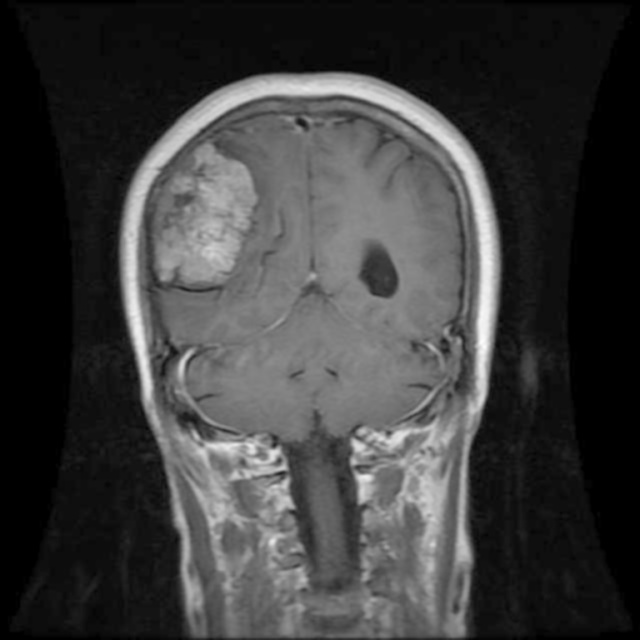meningioma tumor: (148, 125, 270, 286)
